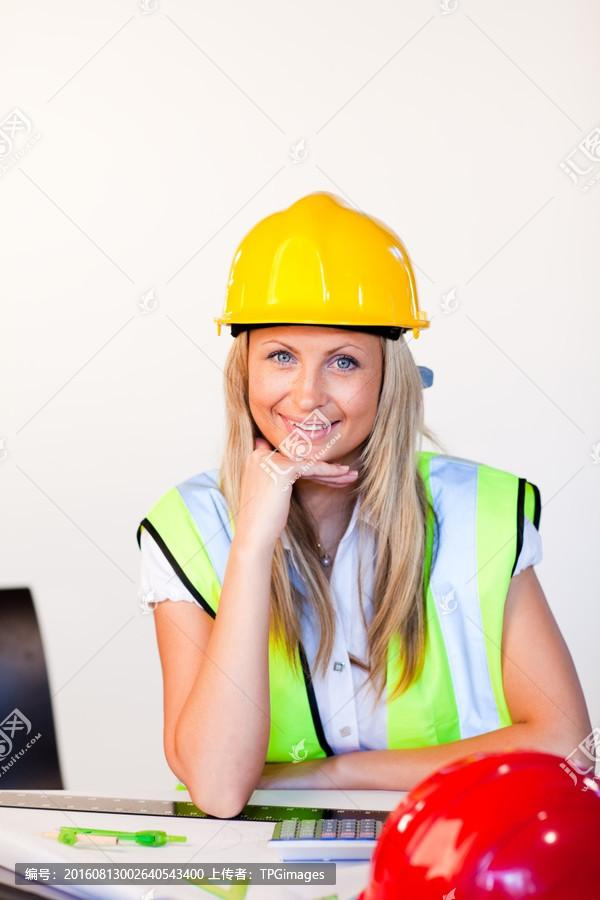helmet: (357, 751, 600, 900), (217, 191, 434, 341)
